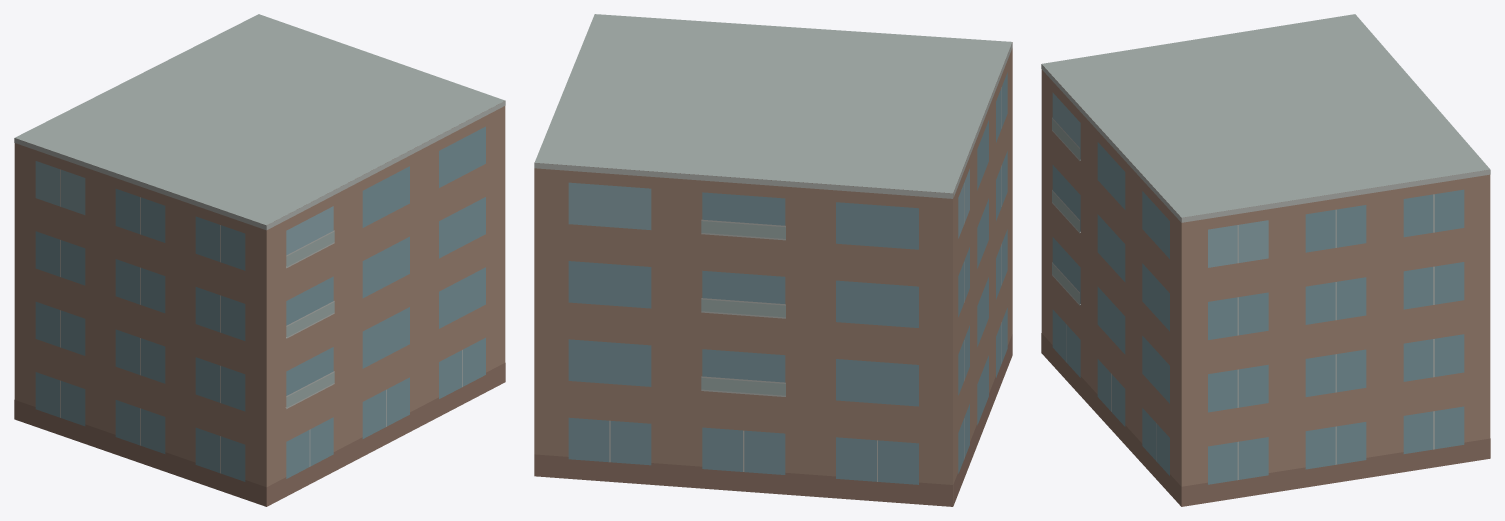
The model's file is survey-upis-32832084.glb.
3 views of the same model, side by side, from view 1: azimuth 30°, elevation 25°; view 2: azimuth 150°, elevation 25°; view 3: azimuth 270°, elevation 25° (orthographic). The views are drawn at different scales.
Parts seen in each view (by area): view 1: survey-upis-32832084.tmp; view 2: survey-upis-32832084.tmp; view 3: survey-upis-32832084.tmp.
Boxes of the visible parts, x1,y1,x2,y2 form: survey-upis-32832084.tmp: (14, 14, 505, 506); survey-upis-32832084.tmp: (534, 14, 1012, 506); survey-upis-32832084.tmp: (1041, 14, 1490, 506).
Size of the model in its own units: 20.78 by 13.75 by 19.36.
